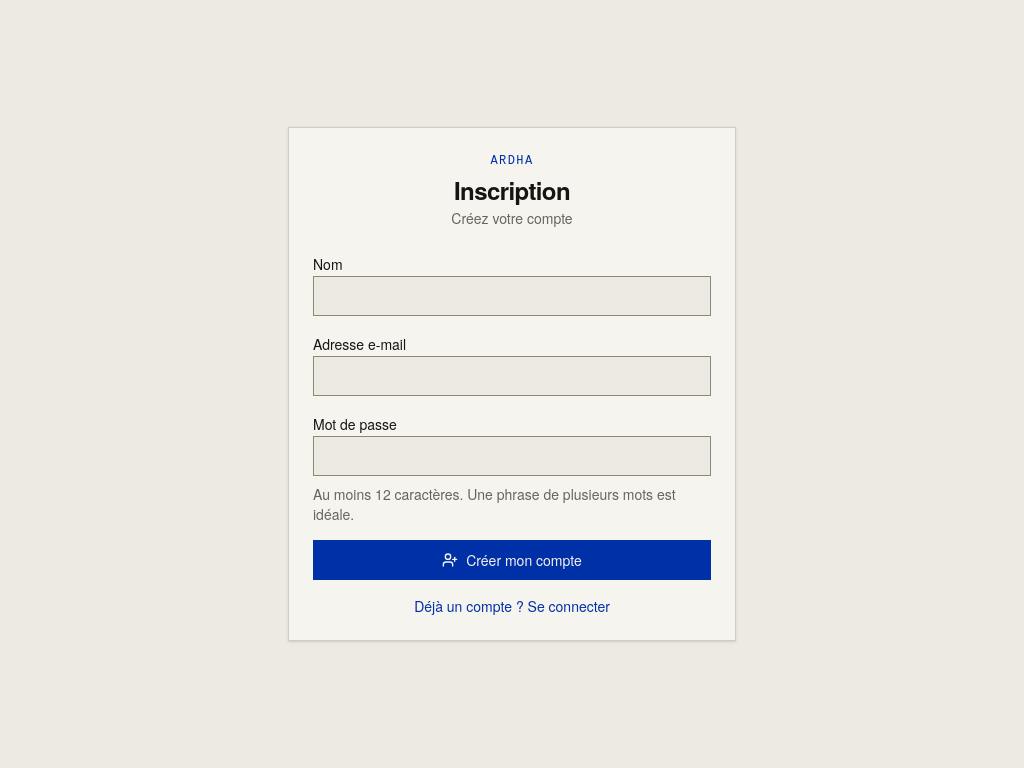
Test: inscription › une inscription réussie ouvre l’accueil
This screenshot has width=1024, height=768.
In the field labelled "Nom": (512, 296) left=313, top=276, right=711, bottom=316, type "Alice Martin"
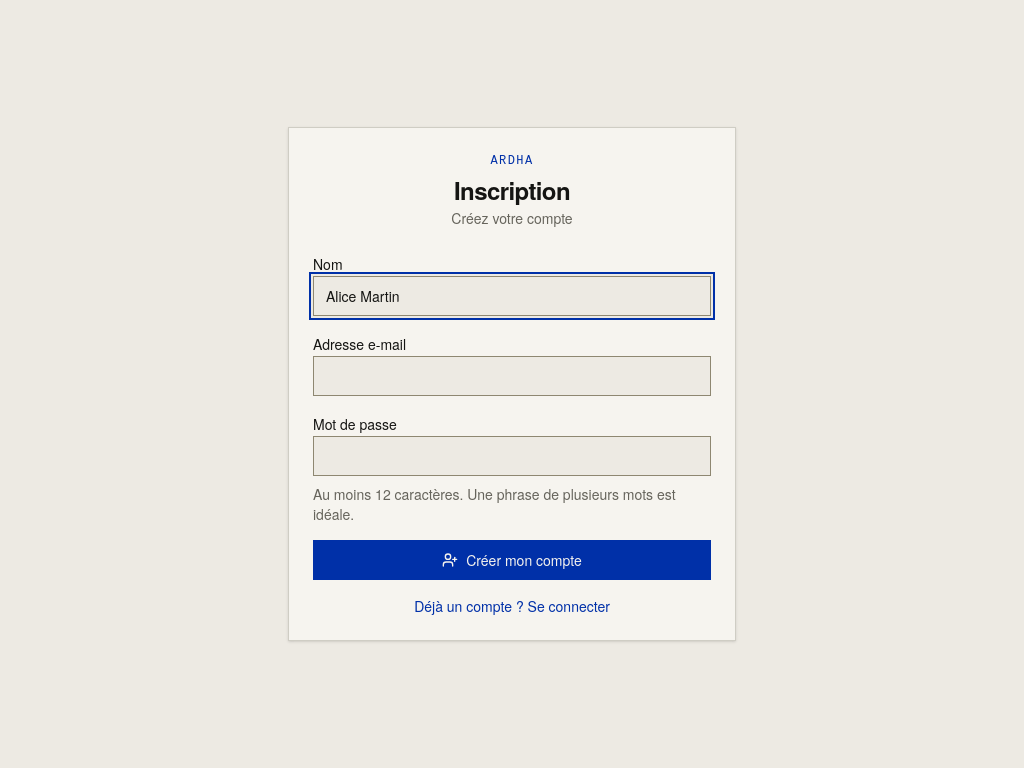
In the field labelled "Adresse e-mail": (512, 376) left=313, top=356, right=711, bottom=396, type "alice@exemple.fr"
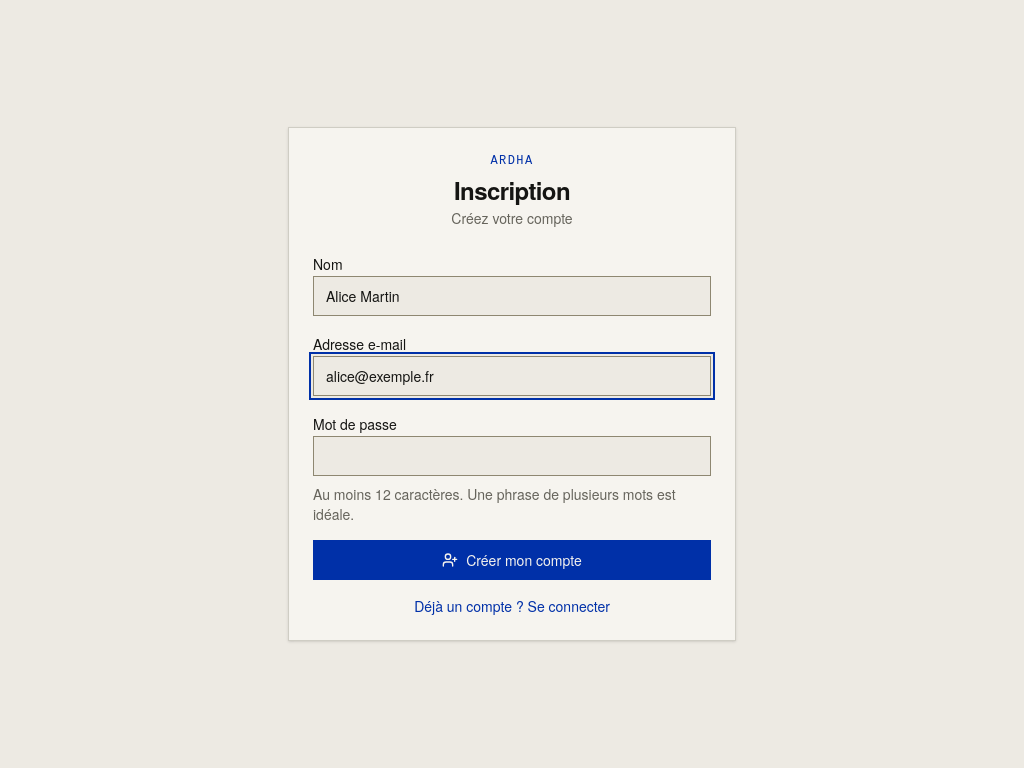
In the password field labelled "Mot de passe": (512, 456) left=313, top=436, right=711, bottom=476, type "cheval pomme agrafe"
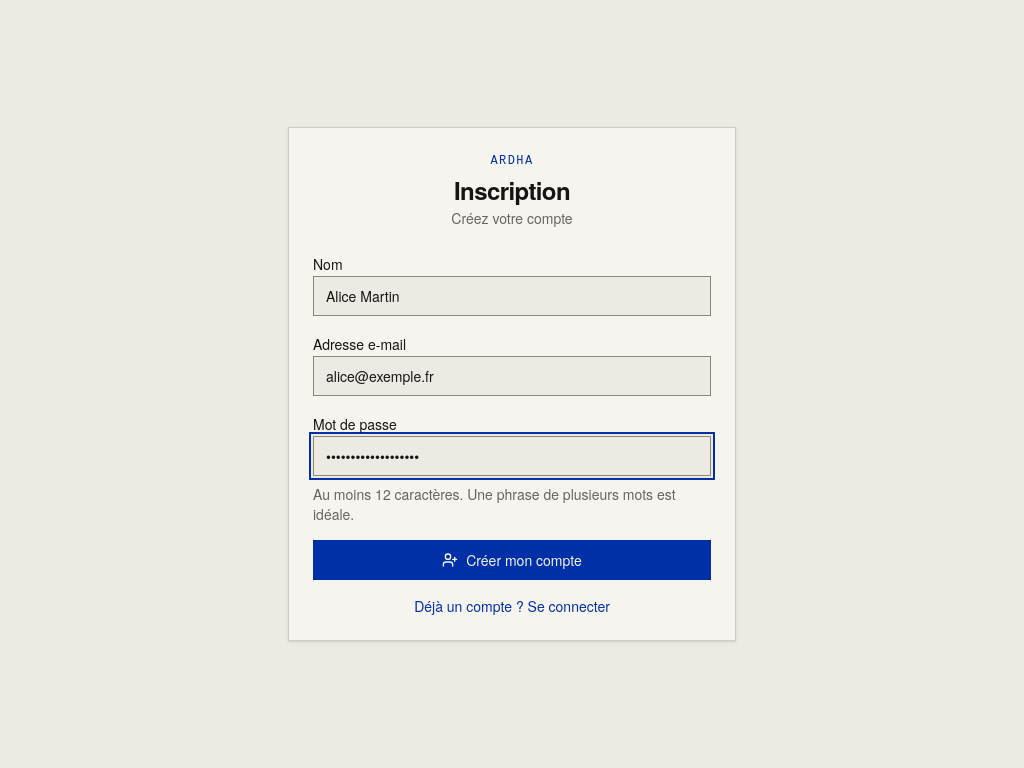
Click the button "Créer mon compte": click(512, 560) left=313, top=540, right=711, bottom=580
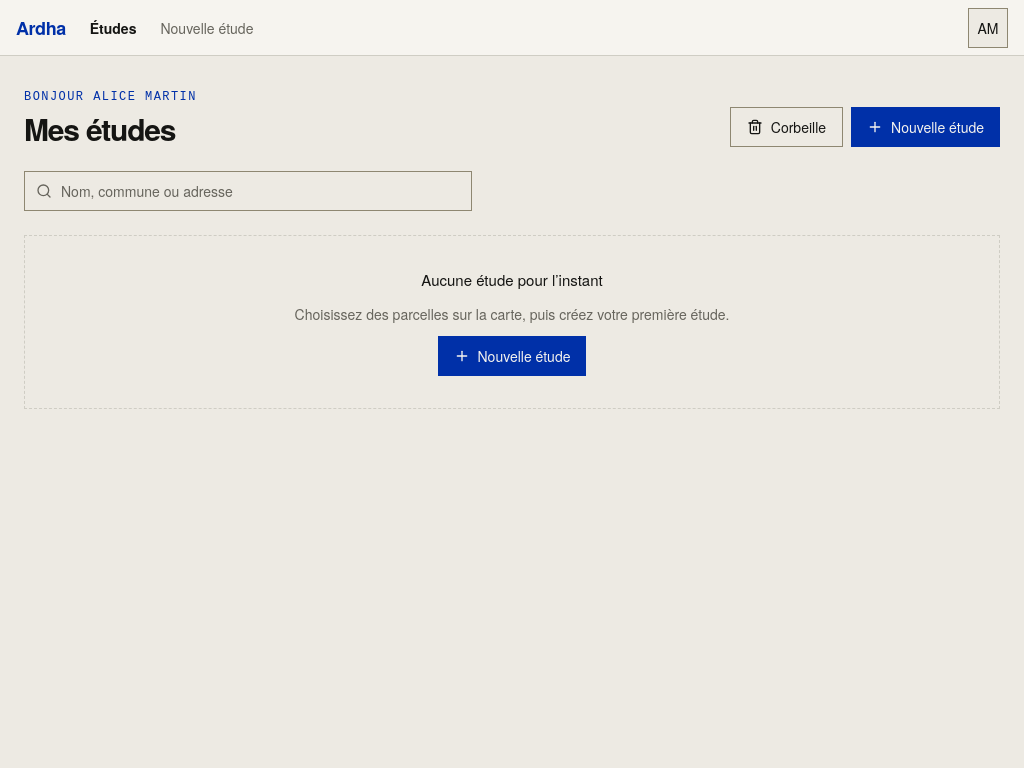
Now the heading "Mes études" is shown, box left=24, top=111, right=197, bottom=147
